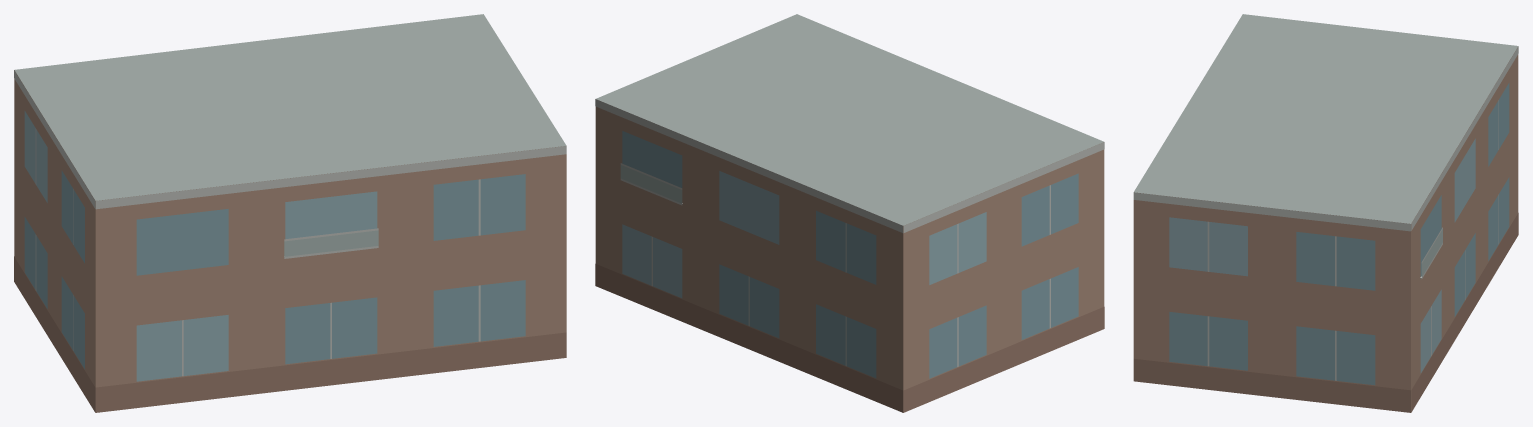
The model's file is survey-upis-32975911.glb.
3 views of the same model, side by side, from view 1: azimuth 30°, elevation 25°; view 2: azimuth 150°, elevation 25°; view 3: azimuth 270°, elevation 25° (orthographic). The views are drawn at different scales.
Visible parts, largest first — view 1: survey-upis-32975911.tmp; view 2: survey-upis-32975911.tmp; view 3: survey-upis-32975911.tmp.
Boxes of the visible parts, x1,y1,x2,y2 form: survey-upis-32975911.tmp: (14, 14, 566, 412); survey-upis-32975911.tmp: (595, 14, 1104, 412); survey-upis-32975911.tmp: (1133, 14, 1518, 412).
Bounding box in the file's own units: 14.54 × 6.1 × 11.27.
